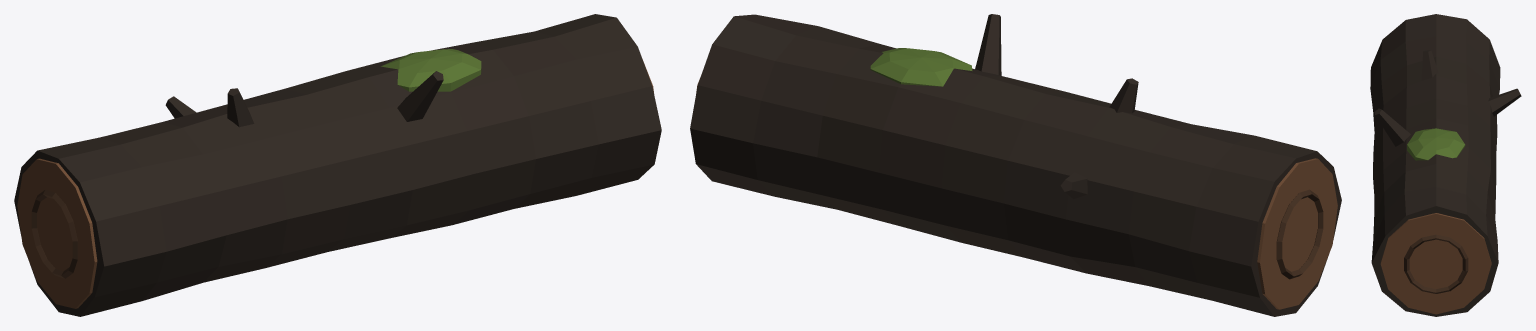
The model's file is log2.glb.
The picture shows the model from 3 angles, left to right: view 1: azimuth 30°, elevation 25°; view 2: azimuth 150°, elevation 25°; view 3: azimuth 270°, elevation 25°; orthographic projection. The views are drawn at different scales.
Parts seen in each view (by area): view 1: Log; view 2: Log; view 3: Log.
Boxes of the visible parts, bbox=[...] form: Log: bbox=[14, 14, 661, 316]; Log: bbox=[690, 14, 1341, 316]; Log: bbox=[1370, 14, 1521, 316].
Bounding box in the file's own units: 2.05 × 0.6435 × 0.6529.
